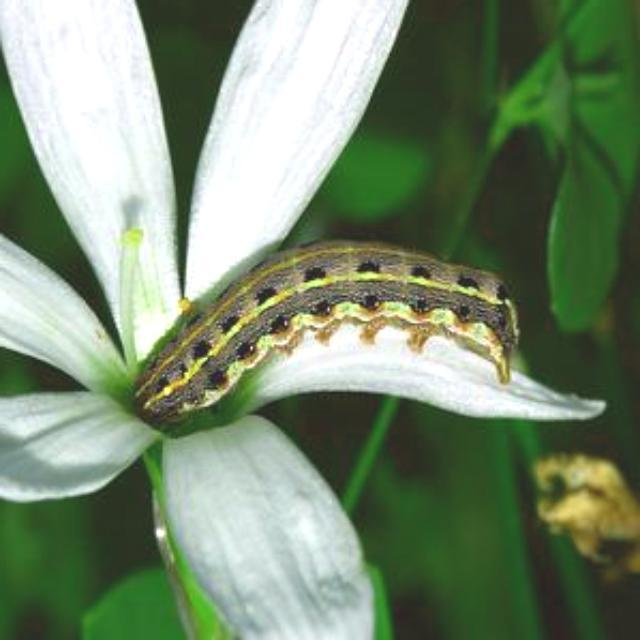Tobacco cutworm: (93, 209, 561, 463)
